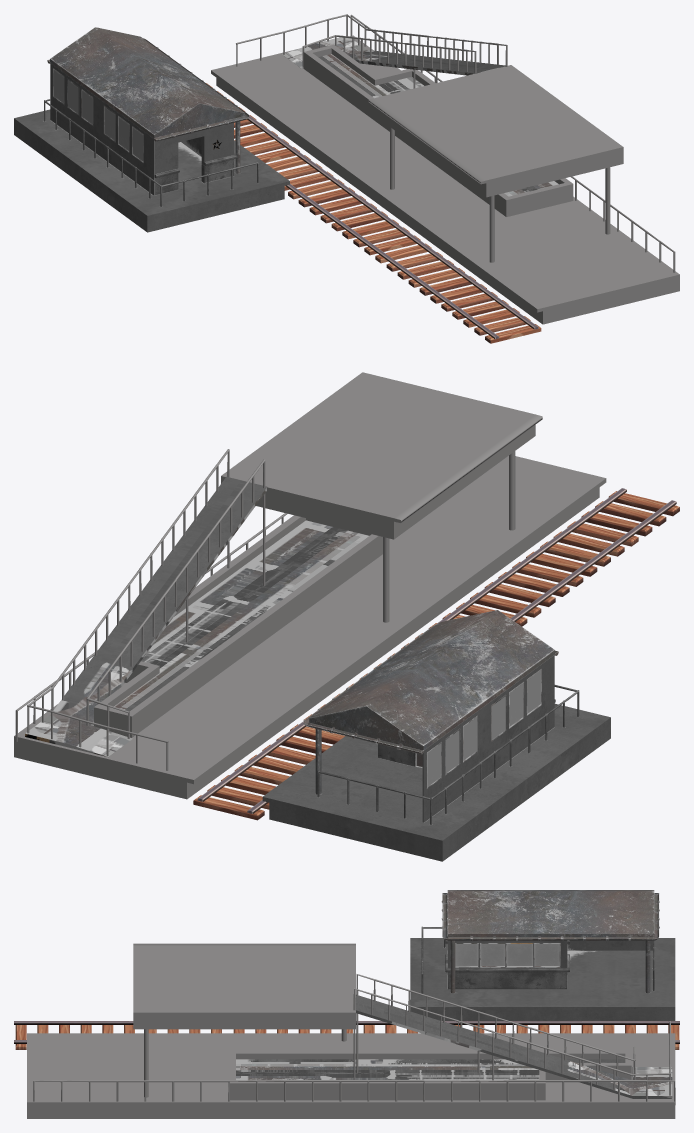
Rendered from StationFinal.fbx.
3 renders of one model, top to bottom at view 1: azimuth 30°, elevation 25°; view 2: azimuth 150°, elevation 25°; view 3: azimuth 270°, elevation 25°, orthographic. The views are drawn at different scales.
Parts seen in each view (by area): view 1: Ramp_Baked, pCube181, StraightRail.001; view 2: Ramp_Baked, pCube181, StraightRail.001; view 3: Ramp_Baked, pCube181, StraightRail.001.
Boxes of the visible parts, left/top/right/bottom form: Ramp_Baked: left=211, top=14, right=679, bottom=324; pCube181: left=14, top=27, right=289, bottom=232; StraightRail.001: left=206, top=83, right=541, bottom=343; Ramp_Baked: left=14, top=372, right=606, bottom=799; pCube181: left=262, top=610, right=610, bottom=861; StraightRail.001: left=193, top=488, right=679, bottom=820; Ramp_Baked: left=27, top=943, right=675, bottom=1118; pCube181: left=410, top=890, right=675, bottom=1020; StraightRail.001: left=14, top=1021, right=679, bottom=1049.
Size of the model in its own units: 479 by 196 by 821.
